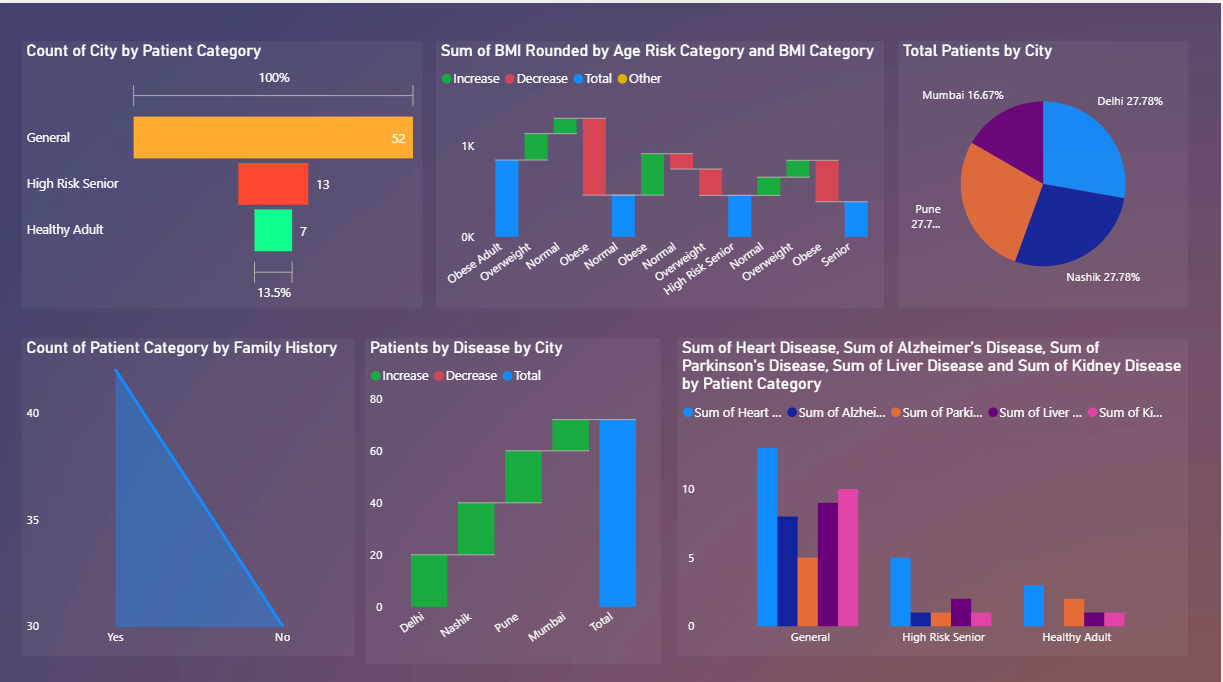

This screenshot's page, from the dashboard's own definition file:
{"tool":"powerbi","page":{"name":"Page 3","canvas":[1280,720],"ordinal":2},"visuals":[{"type":"pieChart","fields":{"Category":["healthcare_disease_prediction_dataset.City"],"Y":["Calendar.Total Patients"]},"box":[941.4,40,304.3,280],"z":0},{"type":"funnel","fields":{"Y":["CountNonNull(healthcare_disease_prediction_dataset.City)"],"Category":["healthcare_disease_prediction_dataset.Patient Category"]},"box":[22.9,40,420,280],"z":1000},{"type":"stackedAreaChart","fields":{"Category":["healthcare_disease_prediction_dataset.Family History"],"Y":["CountNonNull(healthcare_disease_prediction_dataset.Patient Category)"]},"box":[22.9,351.4,348.6,332.9],"z":2000},{"type":"waterfallChart","fields":{"Category":["healthcare_disease_prediction_dataset.City"],"Y":["Calendar.Patients by Disease"]},"box":[382.9,351.4,310,341.4],"z":3000},{"type":"waterfallChart","fields":{"Breakdown":["healthcare_disease_prediction_dataset.BMI Category"],"Y":["Sum(healthcare_disease_prediction_dataset.BMI Rounded)"],"Category":["healthcare_disease_prediction_dataset.Age Risk Category"]},"box":[457.1,40,470,280],"z":4000},{"type":"clusteredColumnChart","fields":{"Y":["Sum(healthcare_disease_prediction_dataset.Heart Disease)","Sum(healthcare_disease_prediction_dataset.Alzheimer's Disease)","Sum(healthcare_disease_prediction_dataset.Parkinson's Disease)","Sum(healthcare_disease_prediction_dataset.Liver Disease)","Sum(healthcare_disease_prediction_dataset.Kidney Disease)"],"Category":["healthcare_disease_prediction_dataset.Patient Category"]},"box":[710,351.4,535.7,332.9],"z":5000}]}

Visuals, with their boxes in screenshot pixels (x1, y1, x2, y2), scaled from the page's 1280x720 canvas onto the 1223x682 screenshot:
pieChart - healthcare_disease_prediction_dataset.City x Calendar.Total Patients: l=899, t=38, r=1190, b=303
funnel - CountNonNull(healthcare_disease_prediction_dataset.City) x healthcare_disease_prediction_dataset.Patient Category: l=22, t=38, r=423, b=303
stackedAreaChart - healthcare_disease_prediction_dataset.Family History x CountNonNull(healthcare_disease_prediction_dataset.Patient Category): l=22, t=333, r=355, b=648
waterfallChart - healthcare_disease_prediction_dataset.City x Calendar.Patients by Disease: l=366, t=333, r=662, b=656
waterfallChart - healthcare_disease_prediction_dataset.BMI Category x Sum(healthcare_disease_prediction_dataset.BMI Rounded): l=437, t=38, r=886, b=303
clusteredColumnChart - Sum(healthcare_disease_prediction_dataset.Heart Disease) x Sum(healthcare_disease_prediction_dataset.Alzheimer's Disease): l=678, t=333, r=1190, b=648
